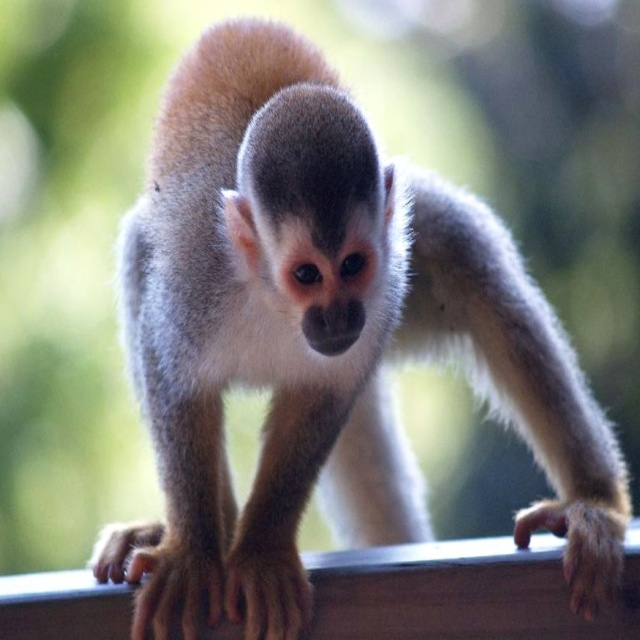Monkey: (91, 12, 634, 639)
